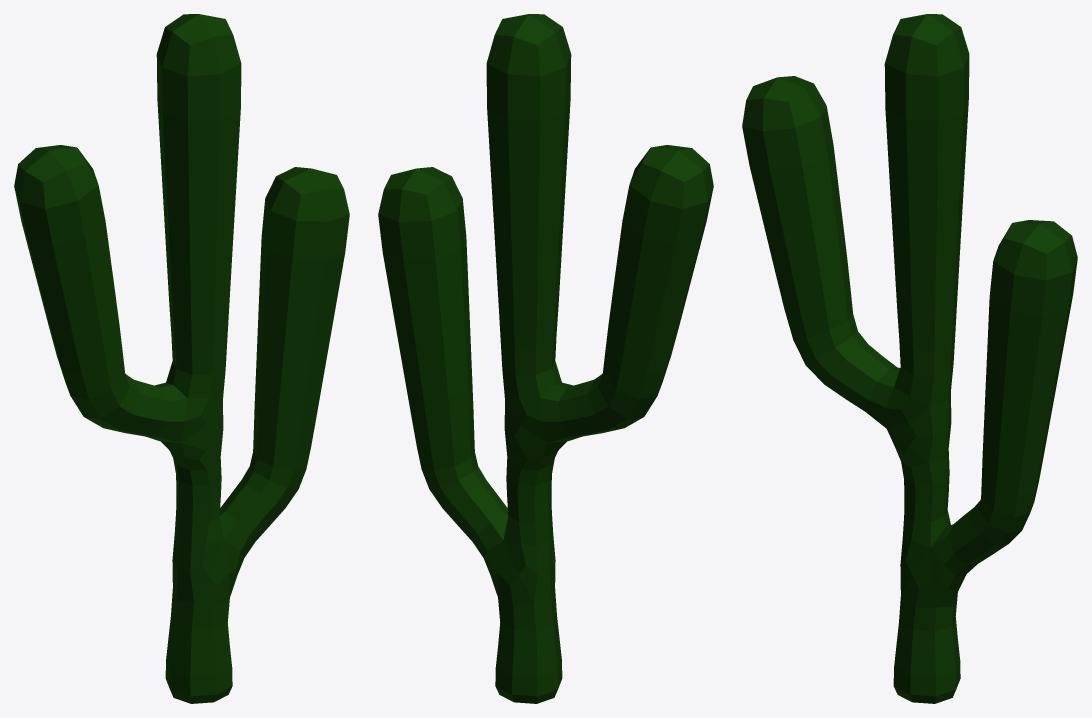
Rendered from Cactus_Summer.glb.
3 views of the same model, side by side, from view 1: azimuth 30°, elevation 25°; view 2: azimuth 150°, elevation 25°; view 3: azimuth 330°, elevation 25° (orthographic).
Visible parts, largest first — view 1: Cactus_Summer.001; view 2: Cactus_Summer.001; view 3: Cactus_Summer.001.
Boxes of the visible parts, x1=… form: Cactus_Summer.001: x1=14, y1=14, x2=349, y2=703; Cactus_Summer.001: x1=378, y1=14, x2=713, y2=703; Cactus_Summer.001: x1=742, y1=14, x2=1077, y2=703.
Size of the model in its own units: 1.59 by 3.19 by 0.3662.
